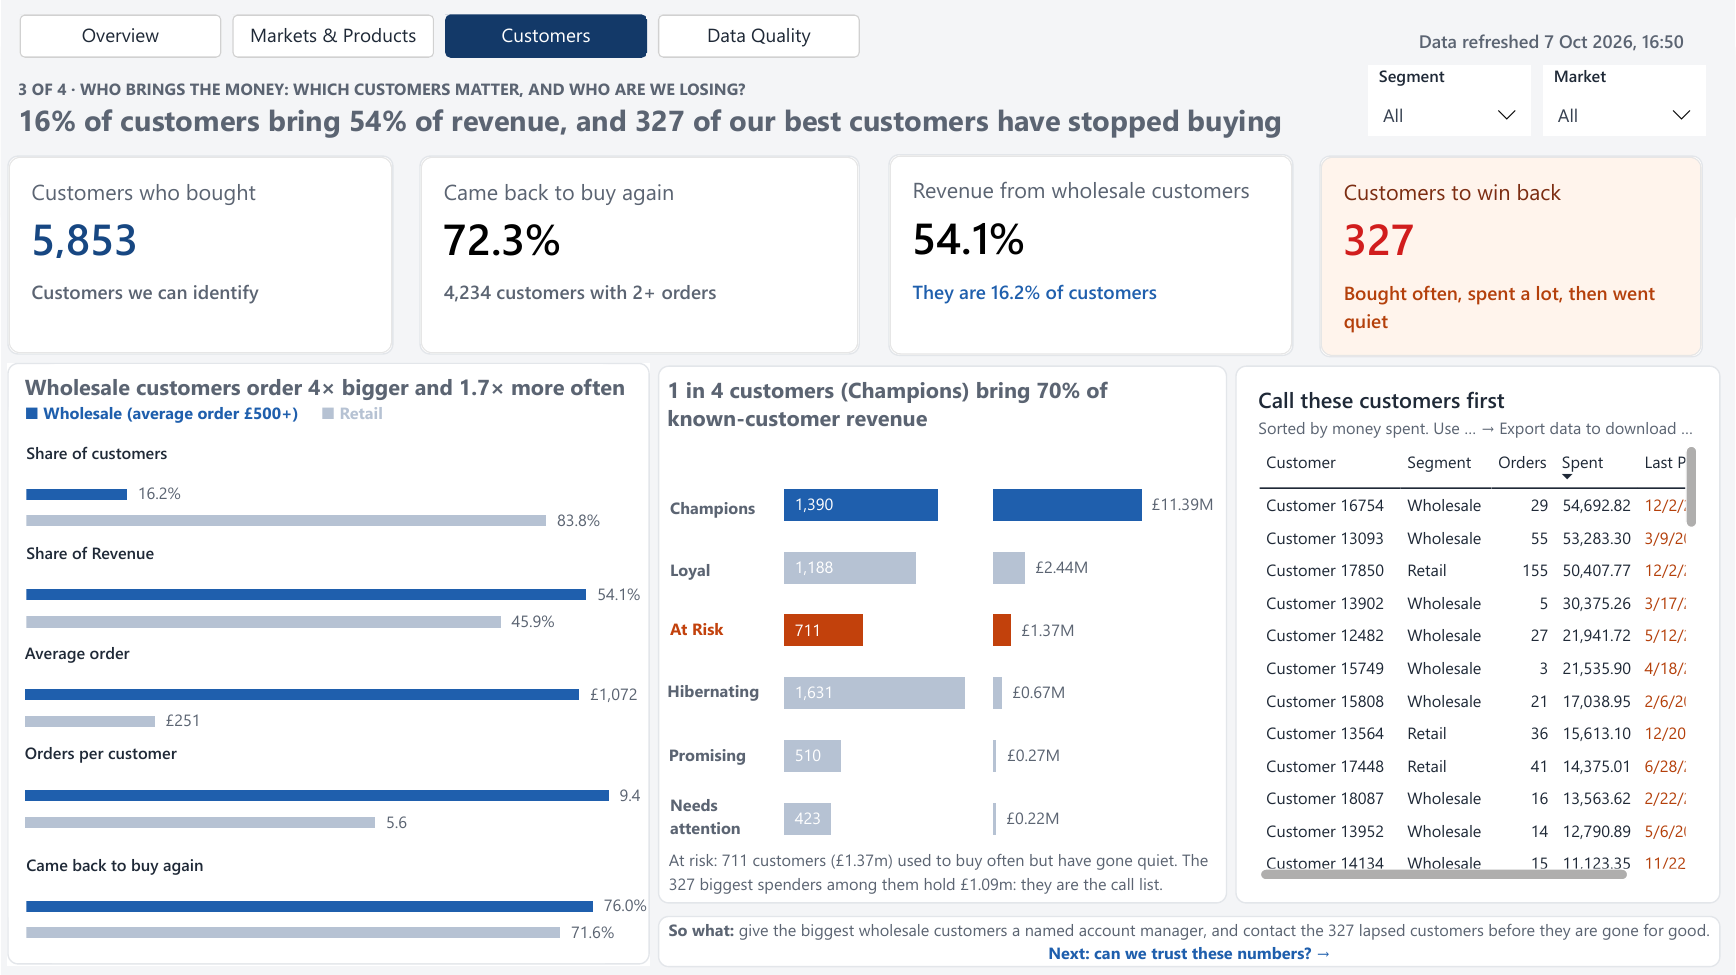

The page's visual inventory and layout, read from the dashboard file:
{"tool":"powerbi","page":{"name":"Customers","canvas":[1280,720],"ordinal":2},"visuals":[{"type":"pageNavigator","box":[14,11,620,32],"z":0},{"type":"group","id":"g1","title":"Group 2","box":[485,270,426,397.1],"z":0,"group":"g3"},{"type":"clusteredBarChart","box":[20.1,328.8,458,102],"z":1000},{"type":"textbox","box":[493.6,366.2,68.7,18.6],"z":1000,"group":"g3"},{"type":"textbox","box":[13,57,969,62],"z":2000},{"type":"textbox","box":[494,412,68.7,18.6],"z":2000,"group":"g3"},{"type":"group","id":"g2","title":"Group 1","box":[4.9,268.4,473.7,444.5],"z":3000},{"type":"textbox","box":[494,455,68.7,18.6],"z":3000,"group":"g3"},{"type":"cardVisual","fields":{"Data":["_Measures (2).Last Refreshed Label"]},"box":[1026,6,232,37],"z":4000},{"type":"textbox","box":[492,501,77.8,19.5],"z":4000,"group":"g3"},{"type":"clusteredBarChart","title":"Share of customers","fields":{"Category":["Customer.Segment"],"Y":["_Measures (2).Customer Share %"]},"box":[18.7,326.2,458.7,74.3],"z":5000},{"type":"textbox","box":[493,548,74.9,21.4],"z":5000,"group":"g3"},{"type":"slicer","title":"Segment","fields":{"Values":["Customer.Segment"]},"box":[1009,48,120,53],"z":6000},{"type":"textbox","box":[494,585,75.7,35.1],"z":6000,"group":"g3"},{"type":"clusteredBarChart","title":"Average order","fields":{"Category":["Customer.Segment"],"Y":["_Measures (2).Avg Customer Order Value"]},"box":[17.7,473.9,458.7,74.3],"z":7000},{"type":"slicer","fields":{"Values":["Country.Market"]},"box":[1138,48,120,53],"z":8000},{"type":"shape","title":"Wholesale customers order 4× bigger and 1.7× more often","box":[4.9,268.4,474,443.9],"z":9000,"group":"g2"},{"type":"clusteredBarChart","title":"Orders per customer","fields":{"Category":["Customer.Segment"],"Y":["_Measures (2).Orders per Customer"]},"box":[17.7,548.2,458.7,74.3],"z":9000},{"type":"cardVisual","fields":{"Data":["_Measures (2).Active Customers Display"]},"box":[5,115,285,147],"z":10000},{"type":"textbox","box":[17.6,275.7,448.5,55],"z":10000,"group":"g2"},{"type":"clusteredBarChart","title":"Share of Revenue","fields":{"Category":["Customer.Segment"],"Y":["_Measures (2).Revenue Share by Segment %"]},"box":[18.7,400.5,458.7,74.3],"z":11000},{"type":"cardVisual","fields":{"Data":["_Measures (2).Repeat Customer Rate"]},"box":[309,115,325,147],"z":12000},{"type":"clusteredBarChart","title":"Came back to buy again","fields":{"Category":["Customer.Segment"],"Y":["_Measures (2).Repeat Customer Rate"]},"box":[18.7,629.9,458.7,74.3],"z":13000},{"type":"cardVisual","fields":{"Data":["_Measures (2).Wholesale Revenue Share %"]},"box":[655,114,299.2,148.5],"z":14000},{"type":"cardVisual","fields":{"Data":["_Measures (2).Win-back Customers"]},"box":[973,115,283,149],"z":15000},{"type":"group","id":"g3","title":"Group 3","box":[485,270,426,397.1],"z":16000},{"type":"shape","box":[485,270,419.6,397.1],"z":16000,"group":"g1"},{"type":"tableEx","title":"Call these customers first","fields":{"Values":["Customer.Customer","Customer.Segment","Sum(Customer.Lifetime Orders)","Sum(Customer.Lifetime Net Revenue)","Customer.Last Purchase"]},"box":[911,270,358,397],"z":17000},{"type":"textbox","box":[492.5,277.4,354.3,48.6],"z":17000,"group":"g1"},{"type":"textbox","box":[492.7,625.6,410,40.9],"z":18000,"group":"g1"},{"type":"textbox","box":[485.3,676,784,37.9],"z":18000},{"type":"clusteredBarChart","fields":{"Category":["Customer.RFM Segment"],"Y":["_Measures (2).Active Customers"]},"box":[562.1,338.7,195.9,295.7],"z":19000,"group":"g1"},{"type":"clusteredBarChart","fields":{"Category":["Customer.RFM Segment"],"Y":["_Measures (2).Net Revenue"]},"box":[716.2,338.7,194.8,295.7],"z":20000,"group":"g1"}]}

Visuals, with their boxes in screenshot pixels (x1, y1, x2, y2), scaled from the page's 1280x720 canvas onto the 1736x975 screenshot:
pageNavigator: x1=19 y1=15 x2=860 y2=58
"Group 2" group: x1=658 y1=366 x2=1236 y2=903
clusteredBarChart: x1=27 y1=445 x2=648 y2=583
textbox: x1=669 y1=496 x2=763 y2=521
textbox: x1=18 y1=77 x2=1332 y2=161
textbox: x1=670 y1=558 x2=763 y2=583
"Group 1" group: x1=7 y1=363 x2=649 y2=965
textbox: x1=670 y1=616 x2=763 y2=641
cardVisual - _Measures (2).Last Refreshed Label: x1=1392 y1=8 x2=1706 y2=58
textbox: x1=667 y1=678 x2=773 y2=705
"Share of customers" clusteredBarChart: x1=25 y1=442 x2=647 y2=542
textbox: x1=669 y1=742 x2=770 y2=771
"Segment" slicer: x1=1368 y1=65 x2=1531 y2=137
textbox: x1=670 y1=792 x2=773 y2=840
"Average order" clusteredBarChart: x1=24 y1=642 x2=646 y2=742
slicer - Country.Market: x1=1543 y1=65 x2=1706 y2=137
"Wholesale customers order 4× bigger and 1.7× more often" shape: x1=7 y1=363 x2=650 y2=965
"Orders per customer" clusteredBarChart: x1=24 y1=742 x2=646 y2=843
cardVisual - _Measures (2).Active Customers Display: x1=7 y1=156 x2=393 y2=355
textbox: x1=24 y1=373 x2=632 y2=448
"Share of Revenue" clusteredBarChart: x1=25 y1=542 x2=647 y2=643
cardVisual - _Measures (2).Repeat Customer Rate: x1=419 y1=156 x2=860 y2=355
"Came back to buy again" clusteredBarChart: x1=25 y1=853 x2=647 y2=954
cardVisual - _Measures (2).Wholesale Revenue Share %: x1=888 y1=154 x2=1294 y2=355
cardVisual - _Measures (2).Win-back Customers: x1=1320 y1=156 x2=1703 y2=358
"Group 3" group: x1=658 y1=366 x2=1236 y2=903
shape: x1=658 y1=366 x2=1227 y2=903
"Call these customers first" tableEx: x1=1236 y1=366 x2=1721 y2=903
textbox: x1=668 y1=376 x2=1148 y2=441
textbox: x1=668 y1=847 x2=1224 y2=903
textbox: x1=658 y1=915 x2=1721 y2=967
clusteredBarChart - Customer.RFM Segment x _Measures (2).Active Customers: x1=762 y1=459 x2=1028 y2=859
clusteredBarChart - Customer.RFM Segment x _Measures (2).Net Revenue: x1=971 y1=459 x2=1236 y2=859
